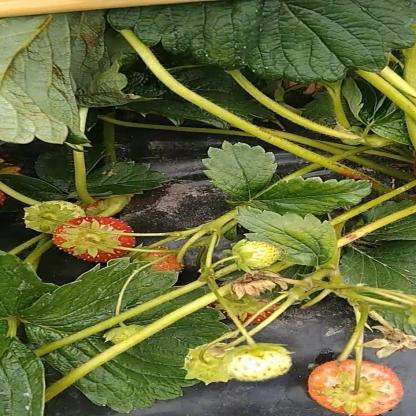ripe: (173, 175, 225, 250), (124, 107, 161, 162)
